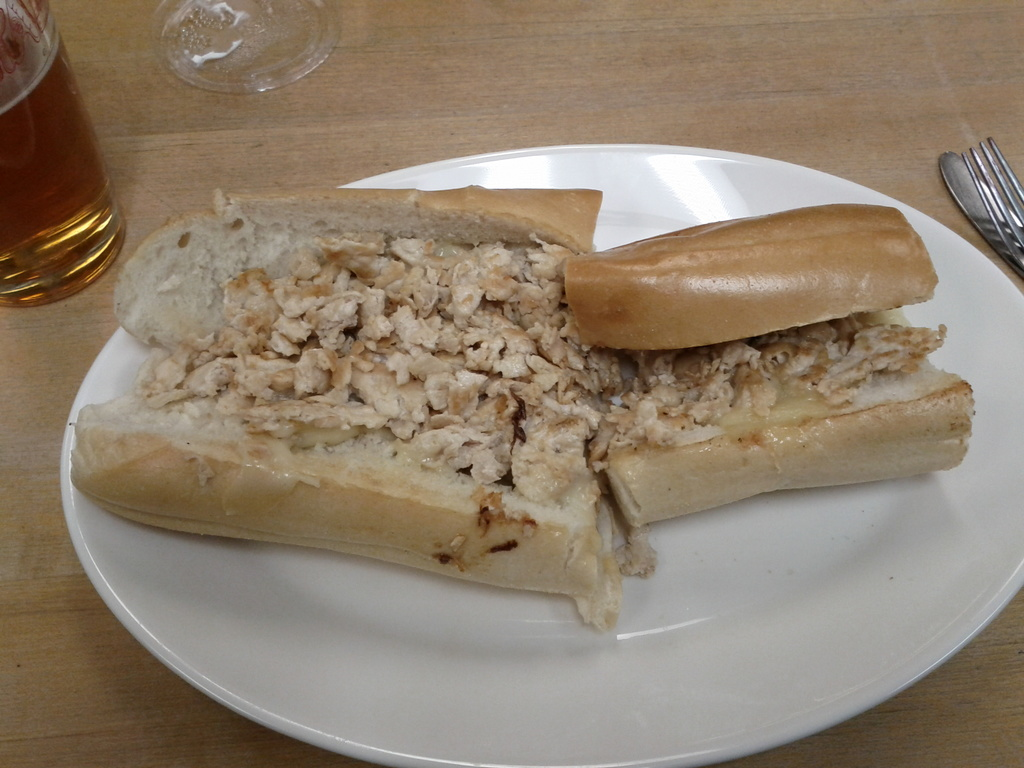sandwich: (61, 177, 623, 625), (566, 199, 977, 535)
